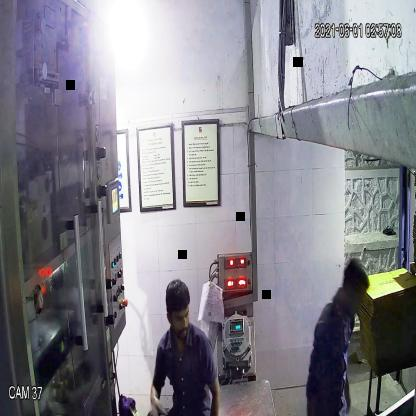no_goggles: (163, 305, 192, 328)
